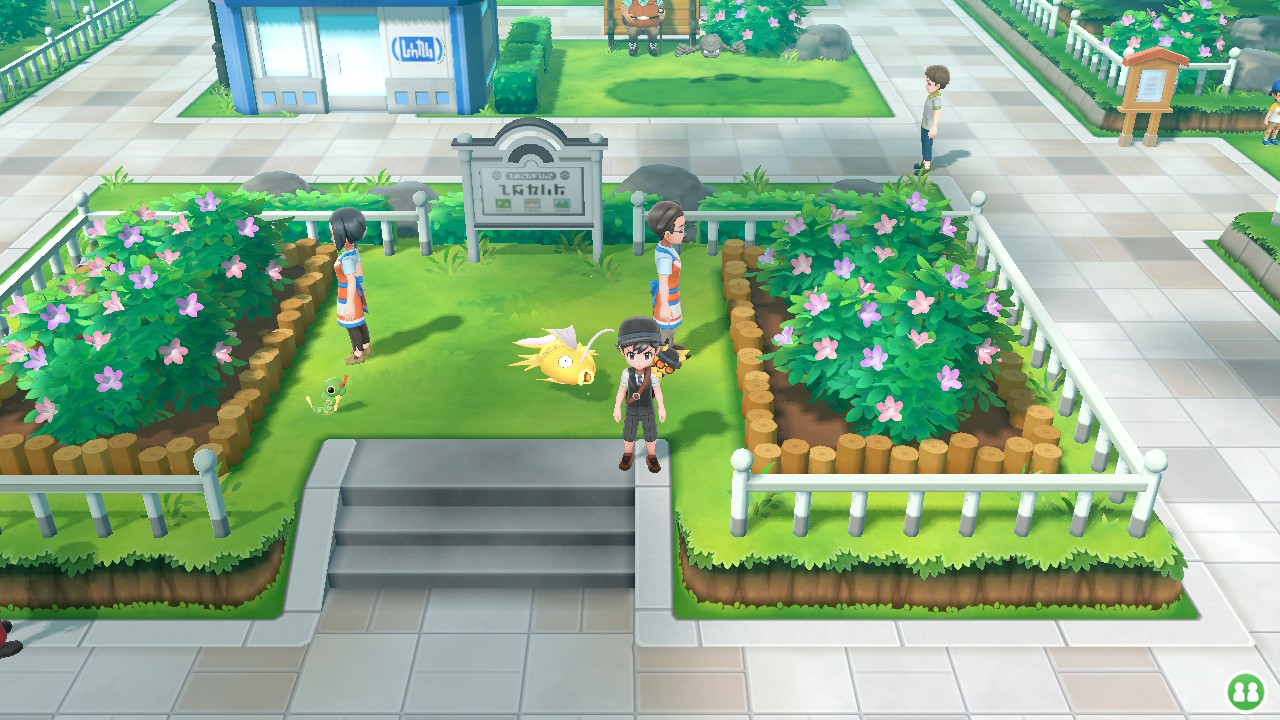Golden: (513, 324, 609, 387)
